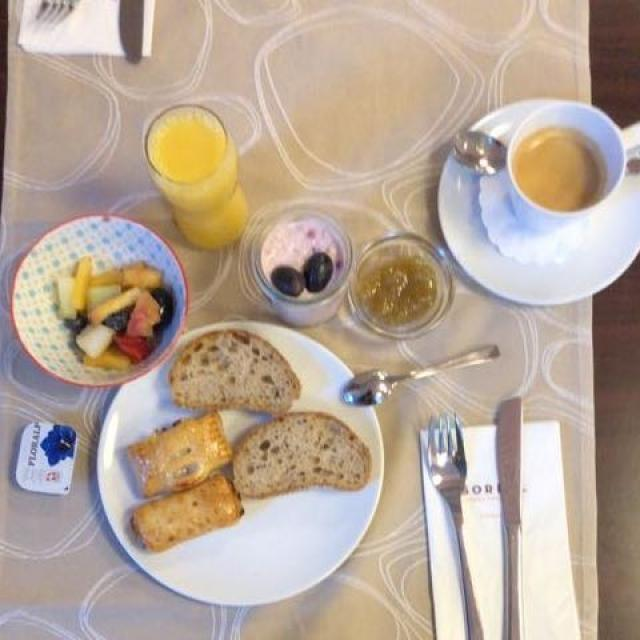birchermuesli: (257, 222, 345, 328)
bread: (154, 317, 383, 514)
coffee: (519, 118, 617, 214)
fruit-salad: (23, 243, 180, 363)
jam: (351, 245, 434, 328)
juice: (143, 114, 255, 259)
